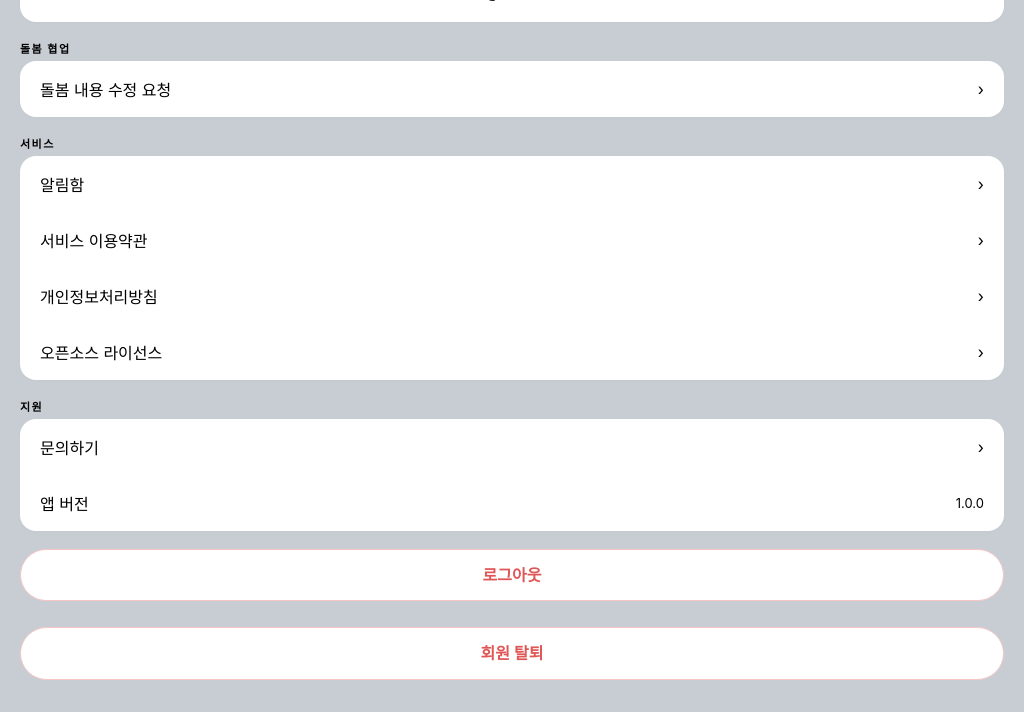
Test: 로그아웃 버튼을 클릭하면 로그아웃 확인 다이얼로그를 표시한다
(page scrolled)
Click the button "로그아웃" at (512, 575), box [20,549,1004,601]
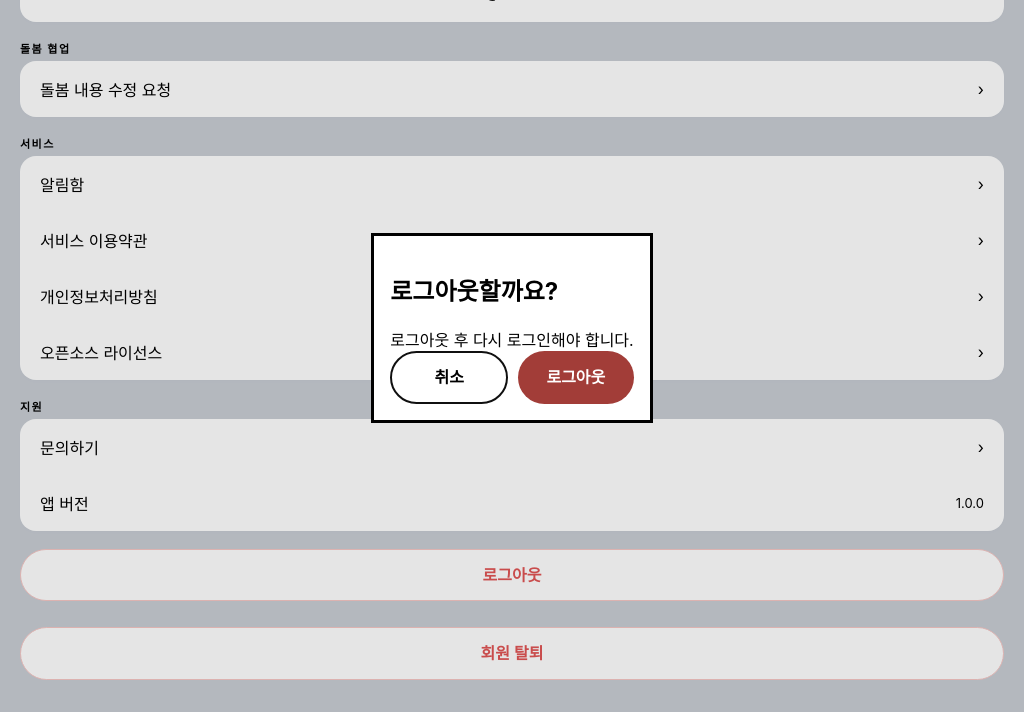
Expected: the heading "로그아웃할까요?" is shown, [390,277,558,306]
Expected: the text "로그아웃 후 다시 로그인해야 합니다." is shown, [390,327,634,351]
